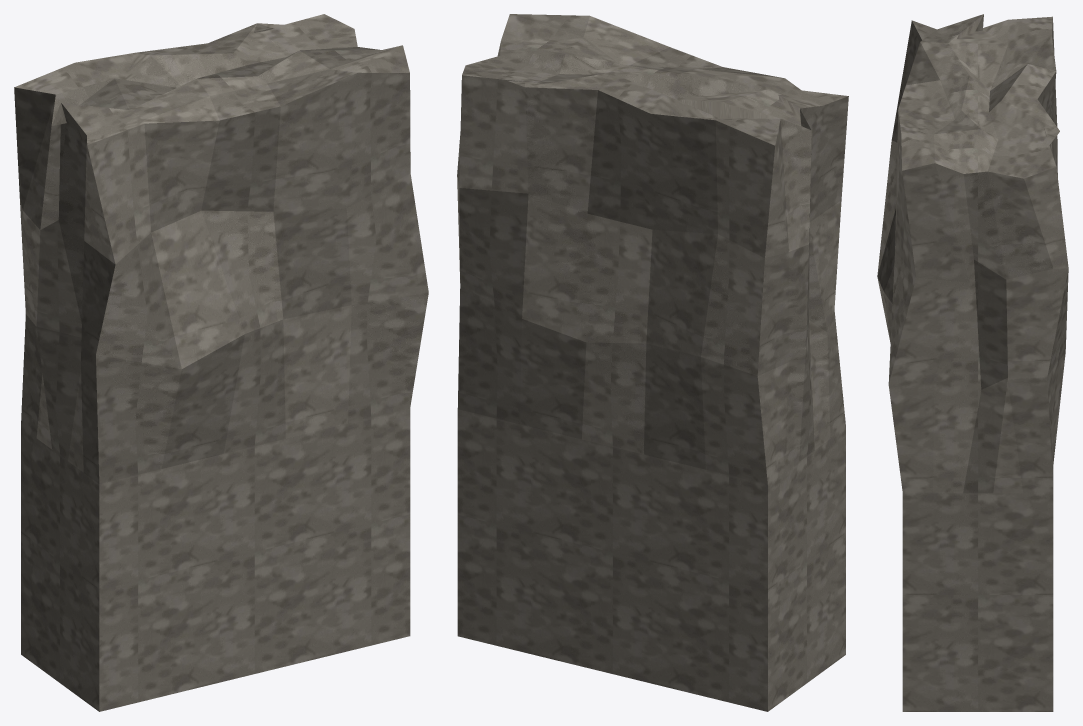
Rendered from cliff_tall.glb.
3 views of the same model, side by side, from view 1: azimuth 30°, elevation 25°; view 2: azimuth 150°, elevation 25°; view 3: azimuth 270°, elevation 25° (orthographic). The views are drawn at different scales.
Parts seen in each view (by area): view 1: Cliff_Tall; view 2: Cliff_Tall; view 3: Cliff_Tall.
Part boxes in pixels (x1,y1,x2,y2): Cliff_Tall: [14, 14, 428, 711]; Cliff_Tall: [457, 14, 848, 711]; Cliff_Tall: [877, 14, 1068, 711].
Size of the model in its own units: 8.58 by 14.27 by 4.44.
Materials: 1 (1 with a texture image).
